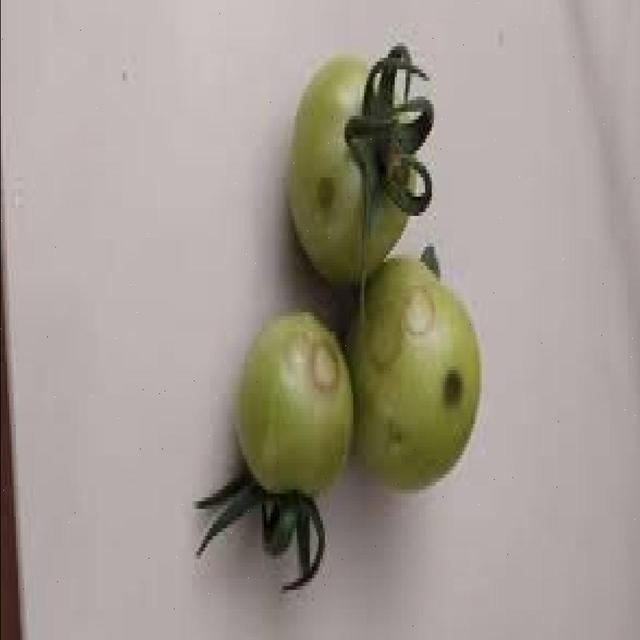Spotted wilt Virus Fruit: (202, 49, 283, 229)
